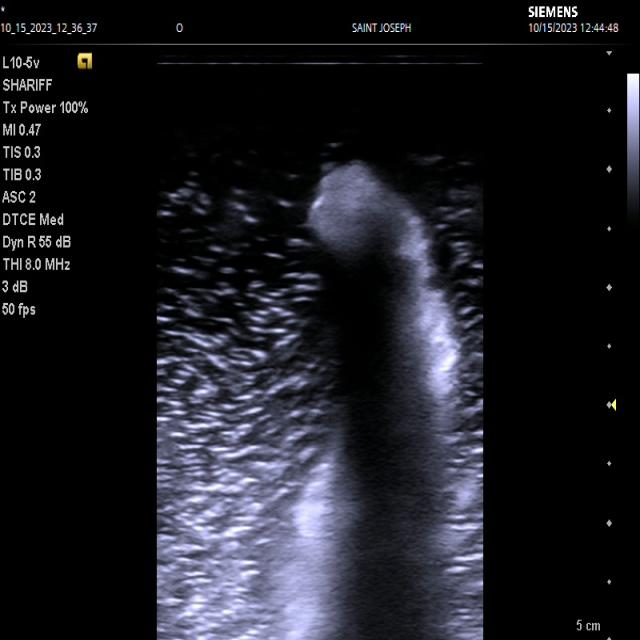tissue: (284, 162, 454, 640)
